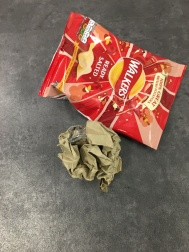paper_brown: (55, 108, 130, 199)
